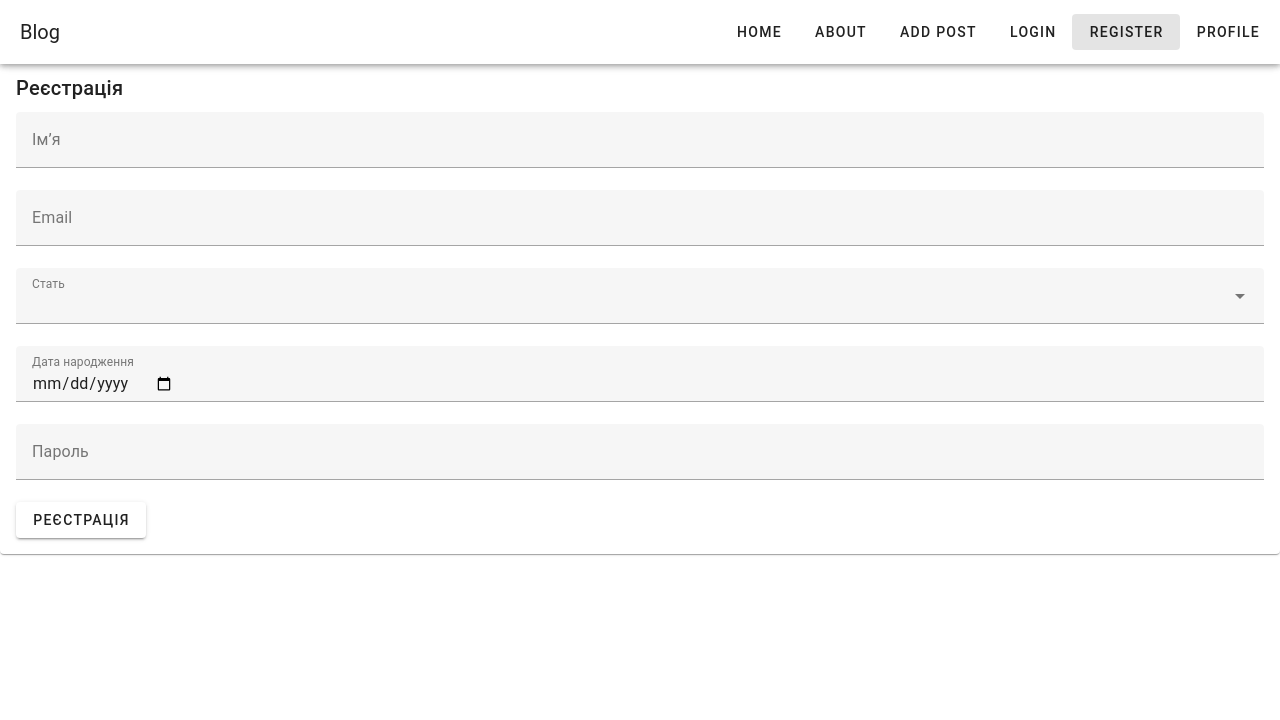
Test: Register Page › should show error message if any field is missing
Click the button with test id "register-button".
click(81, 520)  # box [16,502,146,538]
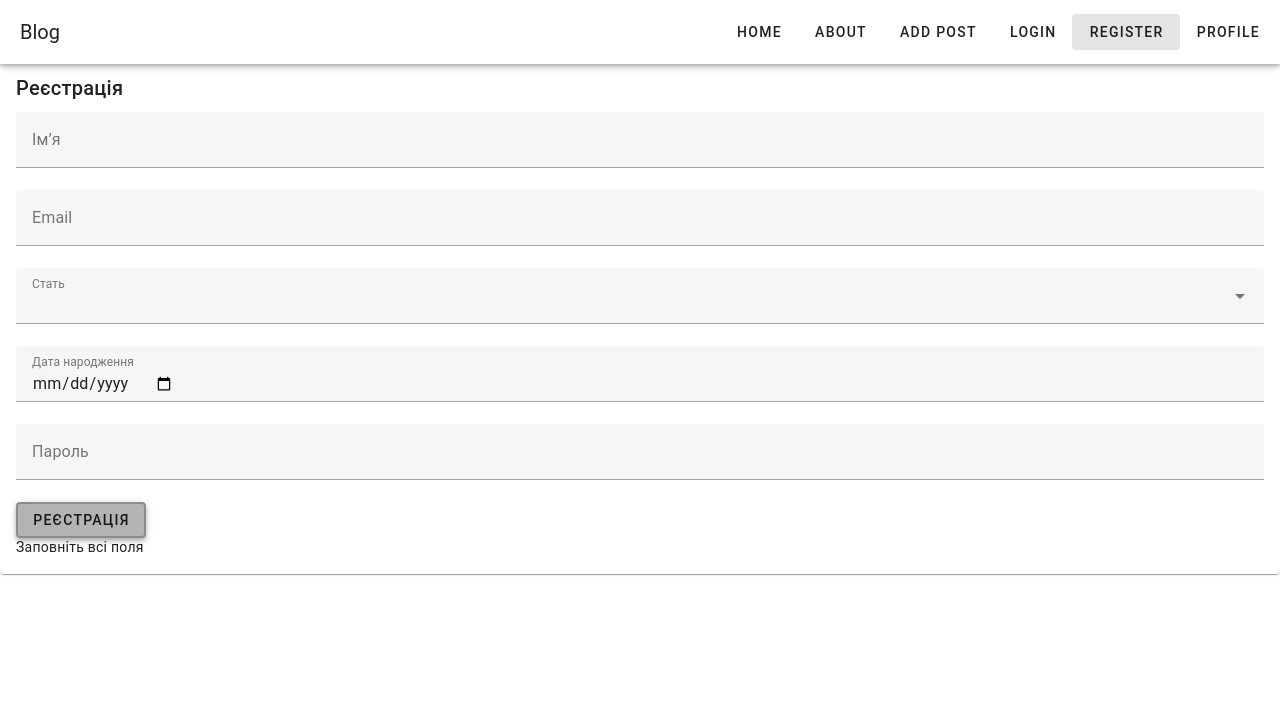
Check: the text "Заповніть всі поля" is shown, box [16,539,144,555]
